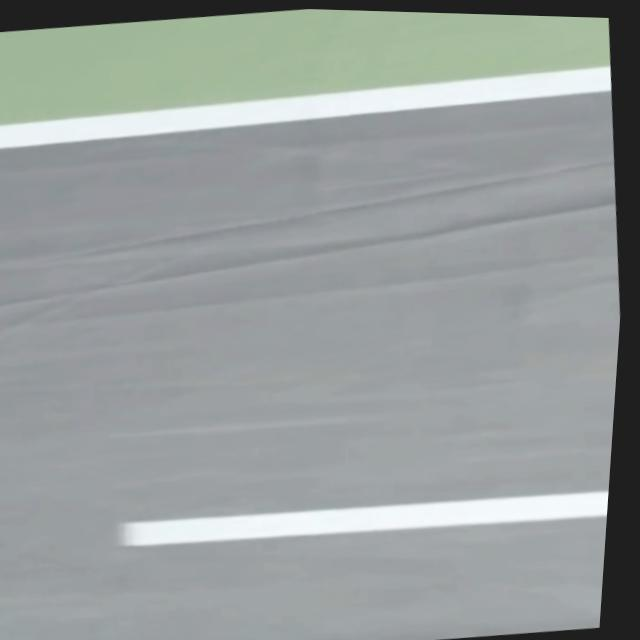center: (120, 491, 608, 546)
right: (0, 66, 611, 148)
